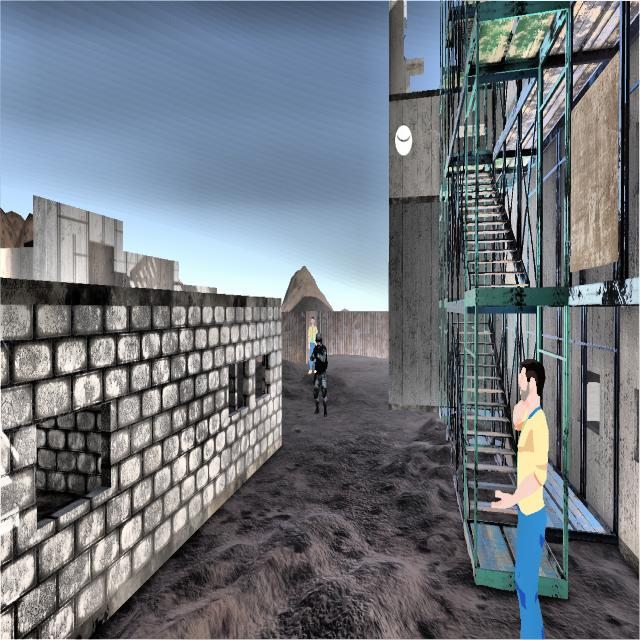bad: (311, 328, 331, 414)
good: (488, 347, 553, 640), (305, 303, 318, 347)
